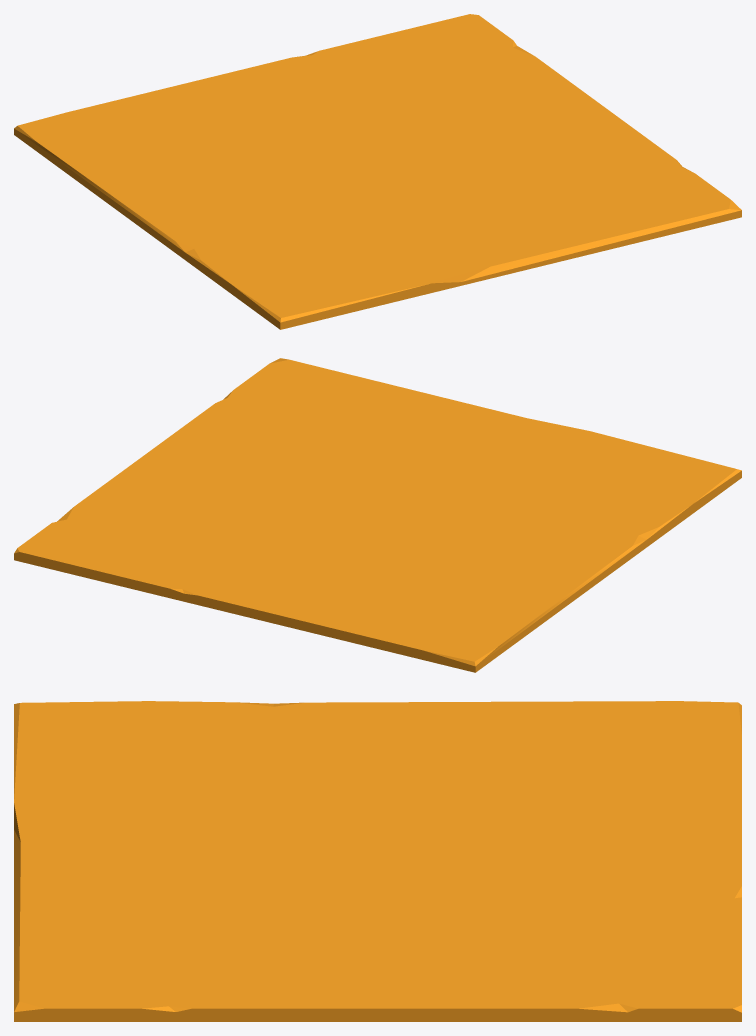
File: SM_Buildings_Floor_5x5_01P.fbx
3 views of the same model, one above another, from view 1: azimuth 30°, elevation 25°; view 2: azimuth 150°, elevation 25°; view 3: azimuth 270°, elevation 25° (orthographic). The views are drawn at different scales.
Visible parts, largest first — view 1: SM_Buildings_Floor_5x5_01P; view 2: SM_Buildings_Floor_5x5_01P; view 3: SM_Buildings_Floor_5x5_01P.
Boxes of the visible parts, box(x1,y1,x2,y2) form: SM_Buildings_Floor_5x5_01P: box(14, 14, 741, 329); SM_Buildings_Floor_5x5_01P: box(14, 358, 741, 672); SM_Buildings_Floor_5x5_01P: box(14, 701, 741, 1021).
Bounding box in the file's own units: 500 × 10 × 500.
